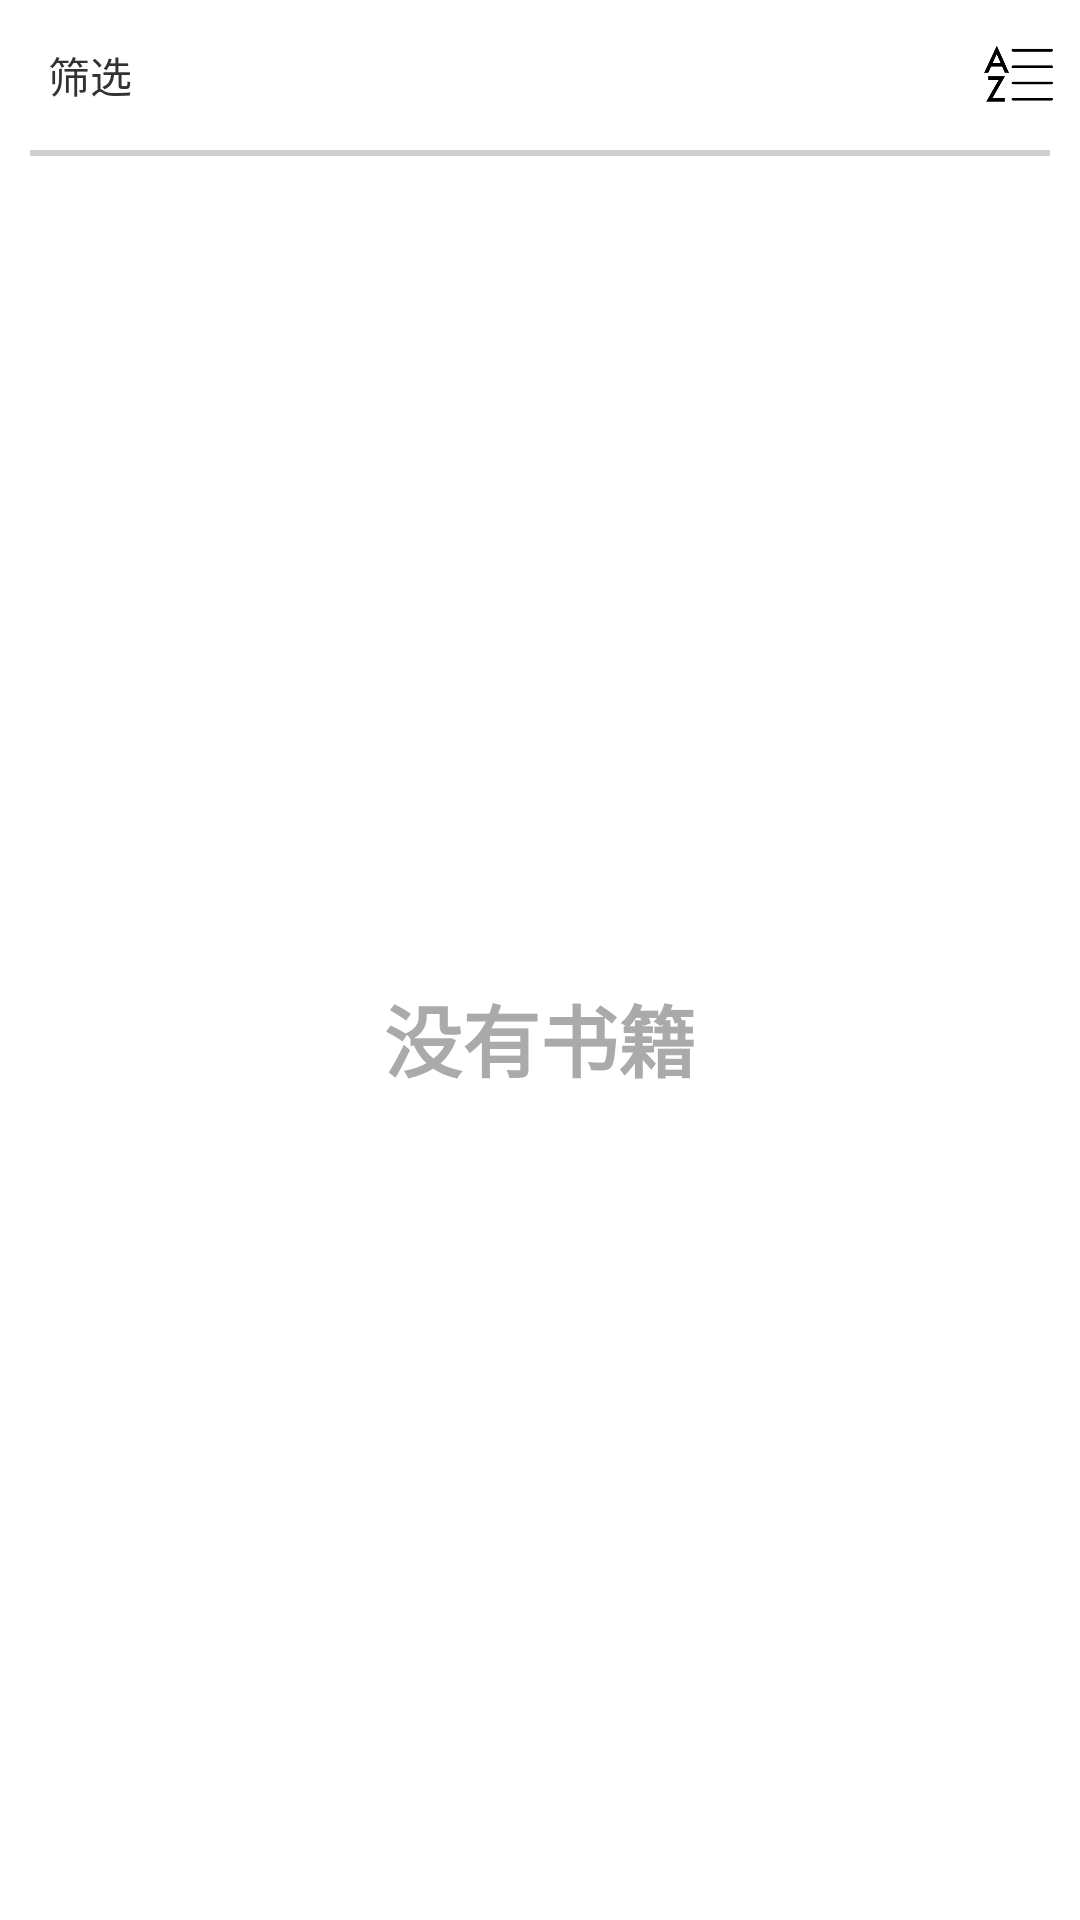

Point at icon controls on the screen. Image size 1080px x 1920px, points as (x=x, y=y).
sort: (x=1018, y=74)
